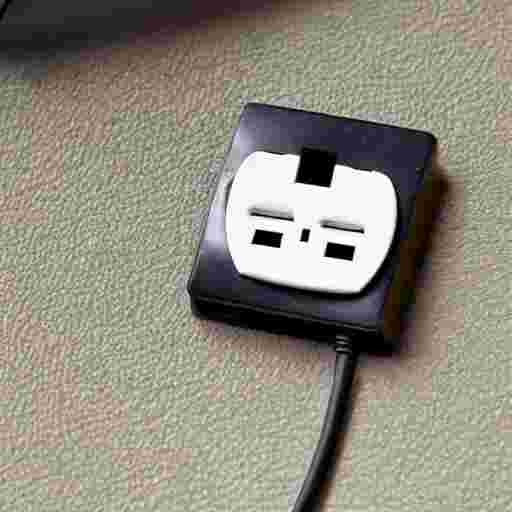power outlet: (188, 102, 435, 350)
